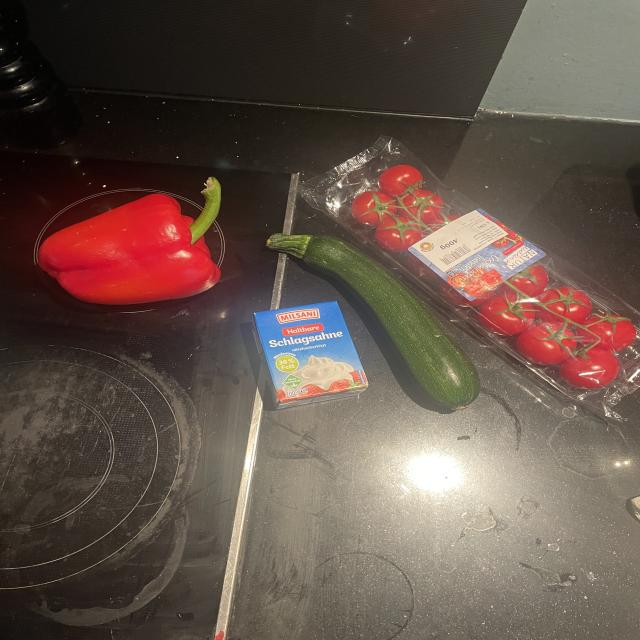bell_pepper: (44, 184, 236, 317)
tomato: (581, 303, 637, 352), (552, 336, 603, 383), (514, 317, 568, 360), (371, 216, 427, 251), (486, 290, 532, 331), (346, 186, 390, 228), (546, 284, 592, 317), (378, 159, 420, 195)
zucchini: (270, 230, 485, 421)
